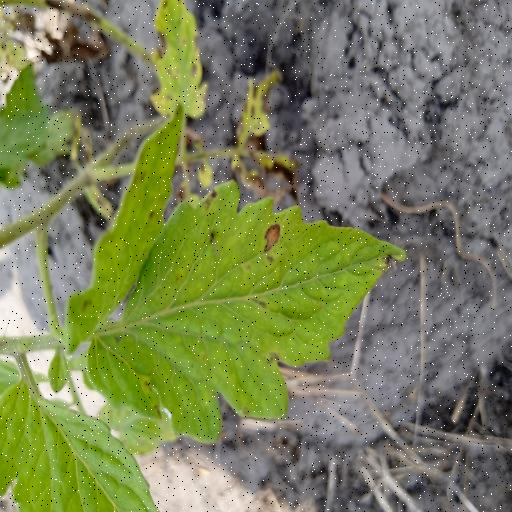Tomato_Brown_Spots: (57, 184, 412, 444)
